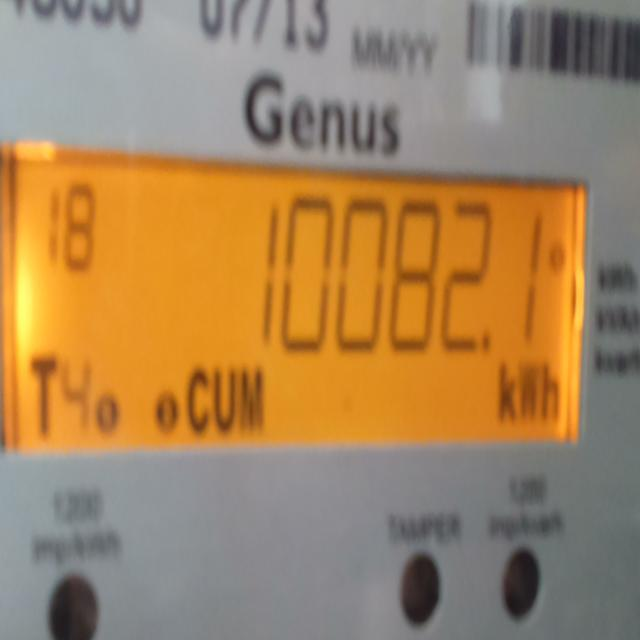.: (479, 322, 493, 361)
0: (281, 189, 335, 359), (335, 197, 389, 357)
1: (511, 197, 546, 356), (256, 200, 282, 350)
2: (442, 199, 497, 365)
8: (389, 197, 443, 364)
